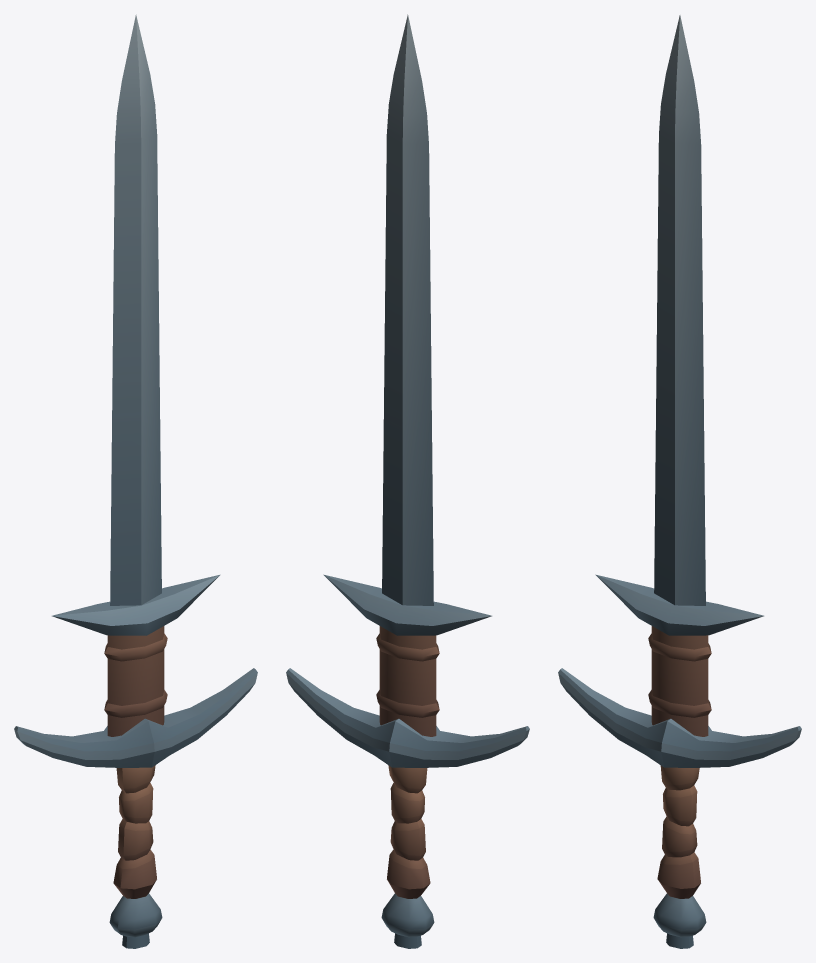
Rendered from sword_E.obj.
3 renders of one model, left to right at view 1: azimuth 30°, elevation 25°; view 2: azimuth 150°, elevation 25°; view 3: azimuth 330°, elevation 25°, orthographic.
Visible parts, largest first — view 1: sword_E; view 2: sword_E; view 3: sword_E.
Part boxes in pixels (left/top/right/bottom): sword_E: left=14, top=14, right=257, bottom=948; sword_E: left=286, top=14, right=529, bottom=948; sword_E: left=558, top=15, right=801, bottom=948.
Size of the model in its own units: 0.8795 by 3.25 by 0.237.
1 material, 1 textured.
